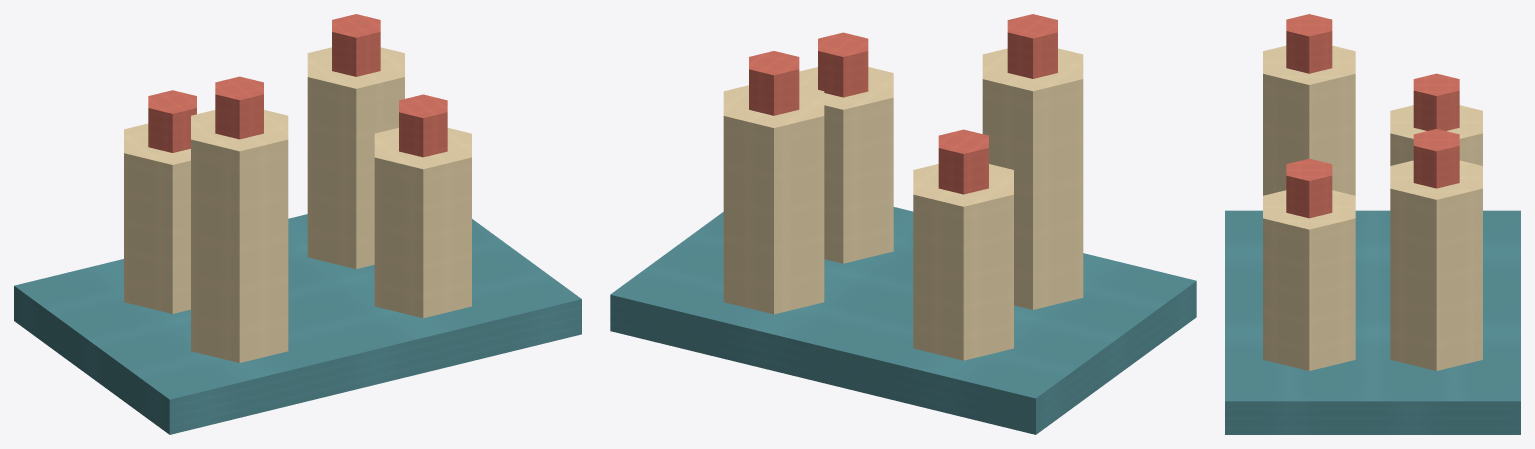
The model's file is atlas100-s073-a04.lod2.glb.
3 renders of one model, left to right at view 1: azimuth 30°, elevation 25°; view 2: azimuth 150°, elevation 25°; view 3: azimuth 270°, elevation 25°, orthographic. The views are drawn at different scales.
Visible parts, largest first — view 1: atlas100-s073-a04:part-000, atlas100-s073-a04:part-007, atlas100-s073-a04:part-010, atlas100-s073-a04:part-004, atlas100-s073-a04:part-001, atlas100-s073-a04:part-005, atlas100-s073-a04:part-008, atlas100-s073-a04:part-011, atlas100-s073-a04:part-002; view 2: atlas100-s073-a04:part-000, atlas100-s073-a04:part-004, atlas100-s073-a04:part-007, atlas100-s073-a04:part-001, atlas100-s073-a04:part-010, atlas100-s073-a04:part-008, atlas100-s073-a04:part-002, atlas100-s073-a04:part-005, atlas100-s073-a04:part-011; view 3: atlas100-s073-a04:part-000, atlas100-s073-a04:part-004, atlas100-s073-a04:part-010, atlas100-s073-a04:part-007, atlas100-s073-a04:part-001, atlas100-s073-a04:part-005, atlas100-s073-a04:part-011, atlas100-s073-a04:part-008, atlas100-s073-a04:part-002.
Boxes of the visible parts, x1,y1,x2,y2 form: atlas100-s073-a04:part-000: (14, 214, 581, 434); atlas100-s073-a04:part-007: (191, 110, 288, 362); atlas100-s073-a04:part-010: (374, 128, 471, 318); atlas100-s073-a04:part-004: (307, 47, 404, 269); atlas100-s073-a04:part-001: (124, 123, 190, 313); atlas100-s073-a04:part-005: (332, 14, 380, 76); atlas100-s073-a04:part-008: (215, 76, 263, 139); atlas100-s073-a04:part-011: (399, 94, 447, 157); atlas100-s073-a04:part-002: (148, 90, 196, 152); atlas100-s073-a04:part-000: (610, 207, 1196, 434); atlas100-s073-a04:part-004: (723, 85, 824, 314); atlas100-s073-a04:part-007: (982, 48, 1083, 309); atlas100-s073-a04:part-001: (913, 164, 1013, 360); atlas100-s073-a04:part-010: (799, 67, 893, 263); atlas100-s073-a04:part-008: (1007, 14, 1057, 78); atlas100-s073-a04:part-002: (938, 129, 988, 194); atlas100-s073-a04:part-005: (749, 51, 799, 115); atlas100-s073-a04:part-011: (818, 32, 868, 97); atlas100-s073-a04:part-000: (1225, 210, 1520, 434); atlas100-s073-a04:part-004: (1390, 160, 1482, 370); atlas100-s073-a04:part-010: (1263, 190, 1355, 370); atlas100-s073-a04:part-007: (1263, 45, 1355, 195); atlas100-s073-a04:part-001: (1390, 105, 1482, 165); atlas100-s073-a04:part-005: (1413, 129, 1459, 188); atlas100-s073-a04:part-011: (1286, 158, 1332, 218); atlas100-s073-a04:part-008: (1286, 14, 1332, 73); atlas100-s073-a04:part-002: (1413, 73, 1459, 130).
Bounding box in the file's own units: 1.18 × 0.7804 × 0.7697.
Materials: 3 (3 with a texture image).
